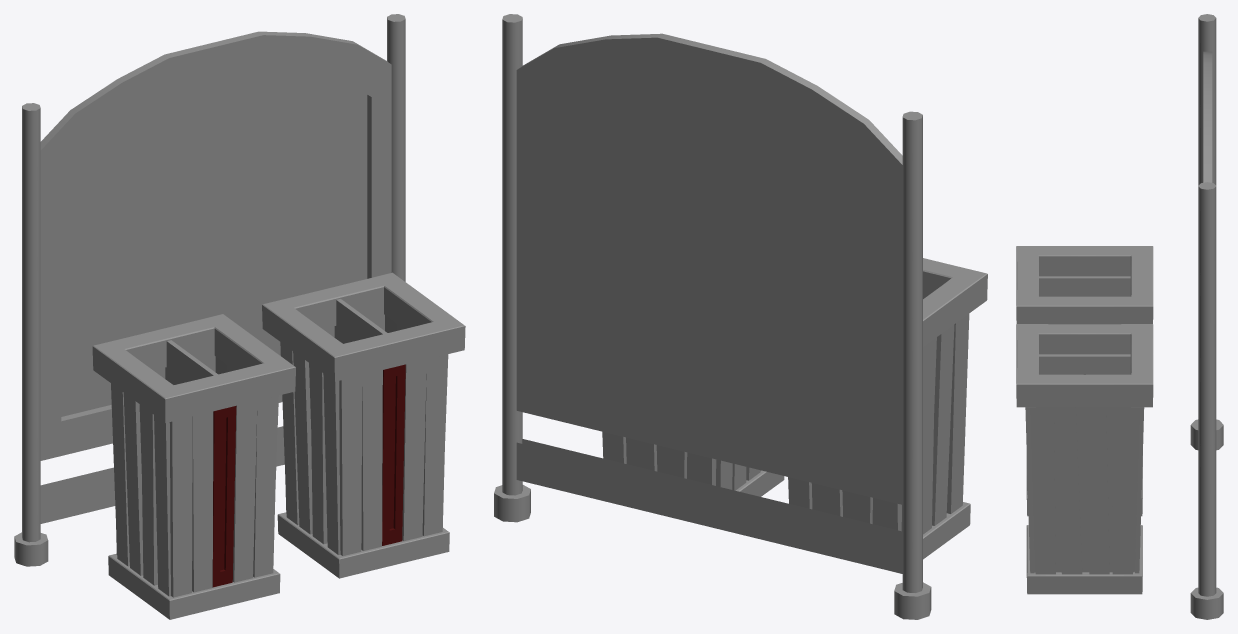
Rendered from Poubelles.FBX.
3 views of the same model, side by side, from view 1: azimuth 30°, elevation 25°; view 2: azimuth 150°, elevation 25°; view 3: azimuth 270°, elevation 25° (orthographic). The views are drawn at different scales.
Visible parts, largest first — view 1: Poubelle_jauge004, Planche_Poubelle, Poubelle_jauge002, Poubelle_jauge006, Poubelle_jauge003, Poubelle_jauge007, Test_1_Poubelle008, Poubelle_1, Poubelle_002, Test_1_Poubelle007, Poubelle_jauge005, Poubelle_jauge; view 2: Planche_Poubelle, Test_1_Poubelle008, Poubelle_jauge002, Test_1_Poubelle007, Poubelle_jauge003, Poubelle_jauge006, Poubelle_1, Poubelle_jauge007; view 3: Poubelle_jauge006, Poubelle_jauge007, Test_1_Poubelle007, Poubelle_jauge003, Poubelle_002, Poubelle_1, Test_1_Poubelle008, Planche_Poubelle.
Boxes of the visible parts, <box> form: Poubelle_jauge004: <box>61,71,367,416</box>; Planche_Poubelle: <box>40,31,391,523</box>; Poubelle_jauge002: <box>111,383,278,597</box>; Poubelle_jauge006: <box>280,342,448,555</box>; Poubelle_jauge003: <box>92,314,295,619</box>; Poubelle_jauge007: <box>262,272,465,578</box>; Test_1_Poubelle008: <box>14,103,48,566</box>; Poubelle_1: <box>126,328,261,473</box>; Poubelle_002: <box>295,287,431,428</box>; Test_1_Poubelle007: <box>387,14,405,281</box>; Poubelle_jauge005: <box>382,364,405,545</box>; Poubelle_jauge: <box>212,406,236,587</box>; Planche_Poubelle: <box>516,33,902,573</box>; Test_1_Poubelle008: <box>894,111,931,619</box>; Poubelle_jauge002: <box>788,314,969,534</box>; Test_1_Poubelle007: <box>494,14,530,522</box>; Poubelle_jauge003: <box>923,258,987,559</box>; Poubelle_jauge006: <box>602,431,760,490</box>; Poubelle_1: <box>811,271,950,531</box>; Poubelle_jauge007: <box>735,470,784,496</box>; Poubelle_jauge006: <box>1025,407,1144,574</box>; Poubelle_jauge007: <box>1016,324,1153,594</box>; Test_1_Poubelle007: <box>1190,182,1223,619</box>; Poubelle_jauge003: <box>1016,246,1153,516</box>; Poubelle_002: <box>1030,334,1139,572</box>; Poubelle_1: <box>1039,256,1130,296</box>; Test_1_Poubelle008: <box>1190,14,1223,450</box>; Planche_Poubelle: <box>1203,51,1212,182</box>.
Bounding box in the file's own units: 149 × 170 × 71.95.
